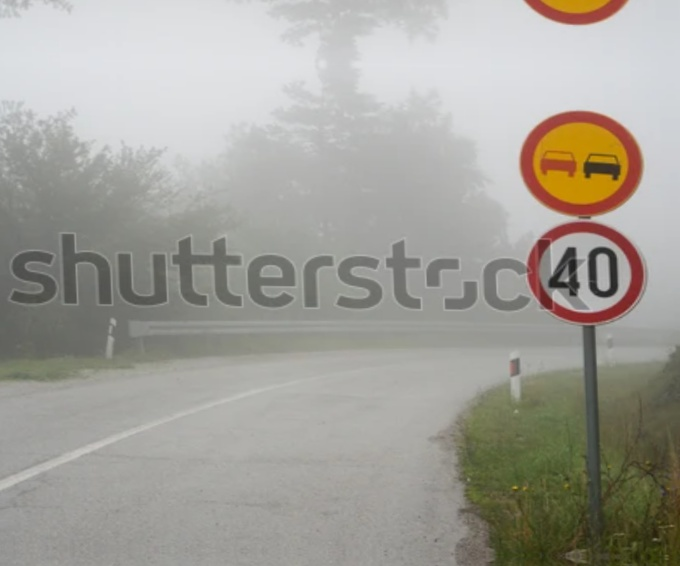No overtake: (510, 97, 648, 218)
Speed limit: (512, 219, 659, 328)
